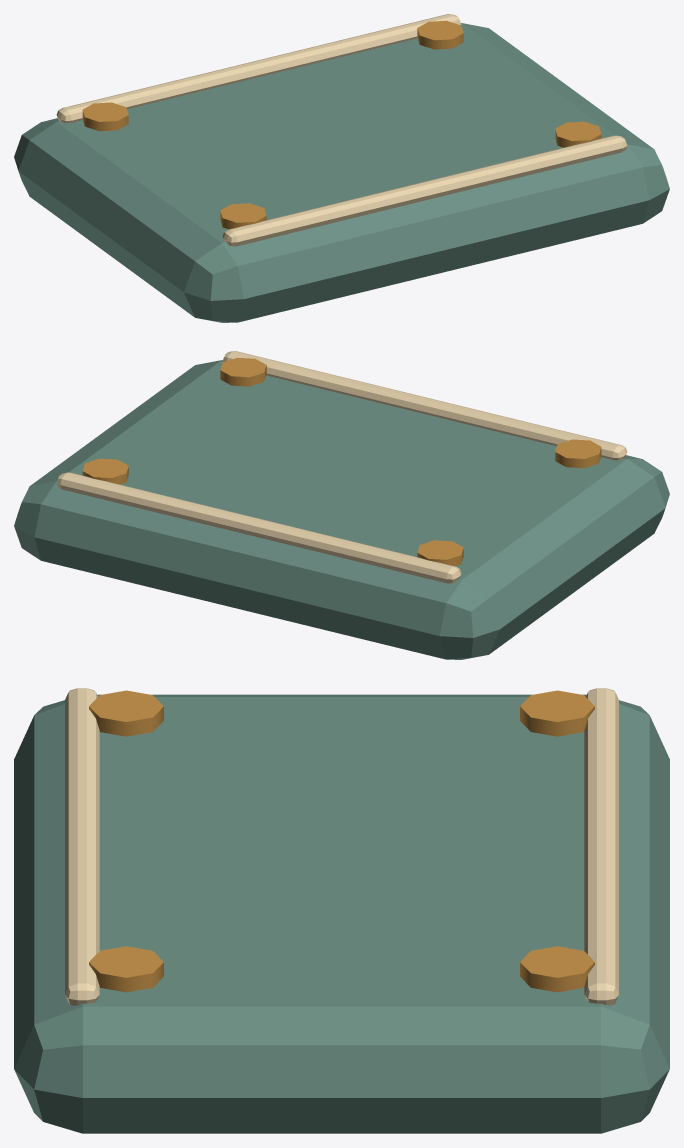
The model's file is Covered_Crop_Insert.fbx.
3 views of the same model, one above another, from view 1: azimuth 30°, elevation 25°; view 2: azimuth 150°, elevation 25°; view 3: azimuth 270°, elevation 25° (orthographic). The views are drawn at different scales.
Parts seen in each view (by area): view 1: Body; view 2: Body; view 3: Body.
Part boxes in pixels (x1,y1,x2,y2): Body: (14, 14, 669, 322); Body: (14, 351, 669, 659); Body: (14, 688, 669, 1133).
Size of the model in its own units: 0.65 by 0.1175 by 0.49.
